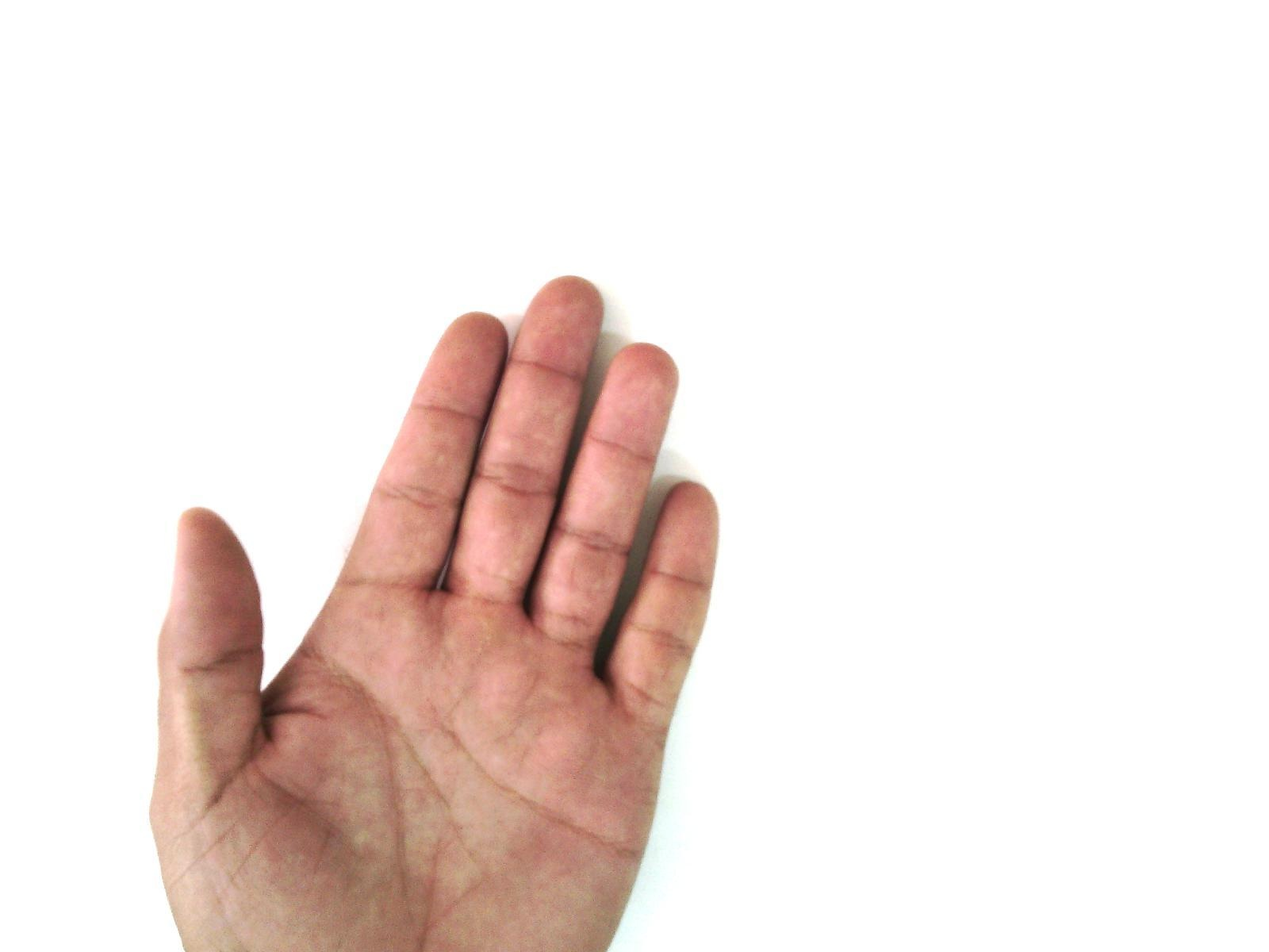open_palm: (148, 274, 723, 951)
